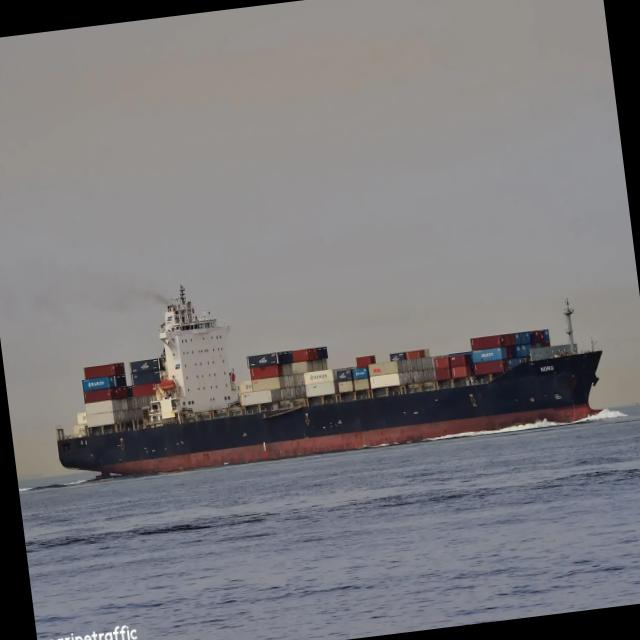Cargo: (57, 286, 600, 474)
